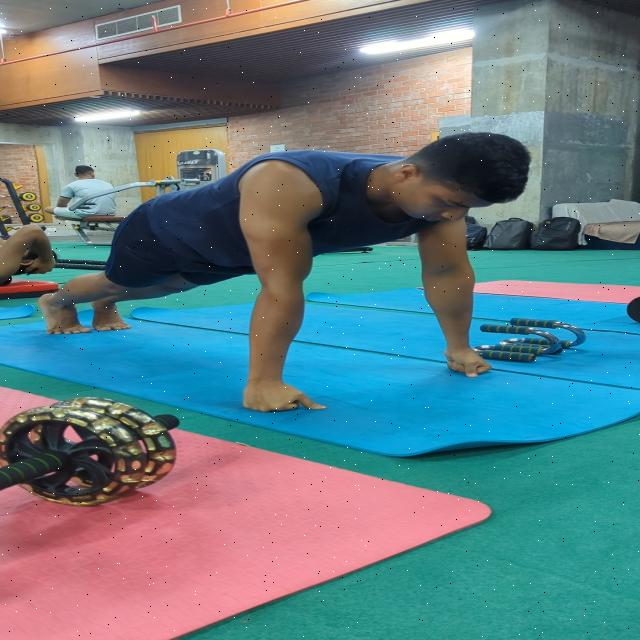Normal_PushUps: (21, 130, 545, 417)
